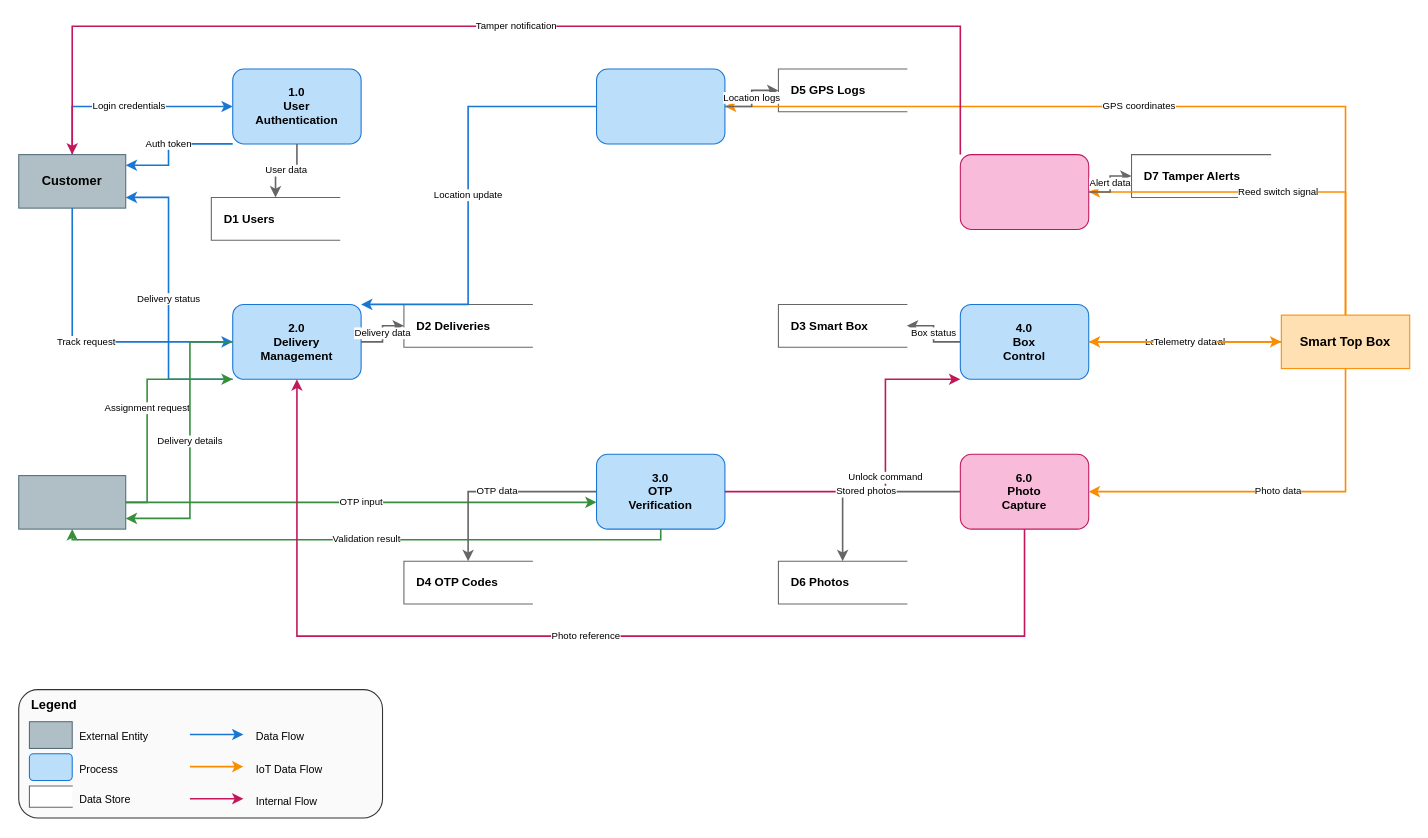
This 1428x838 diagram has some shape labels left out. The shapes that lost their labels are listed below. From the top down, each one's box as (x1, y1, x2, y2) in pixels, then its label:
(595, 68, 725, 144): 5.0 GPS Tracking
(959, 154, 1089, 230): 7.0 Tamper Detection
(18, 475, 126, 529): Rider
